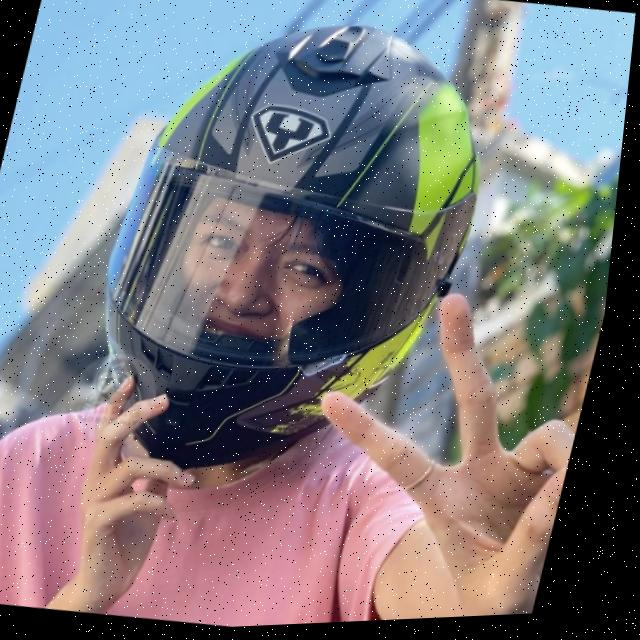helmet: (56, 0, 537, 522)
